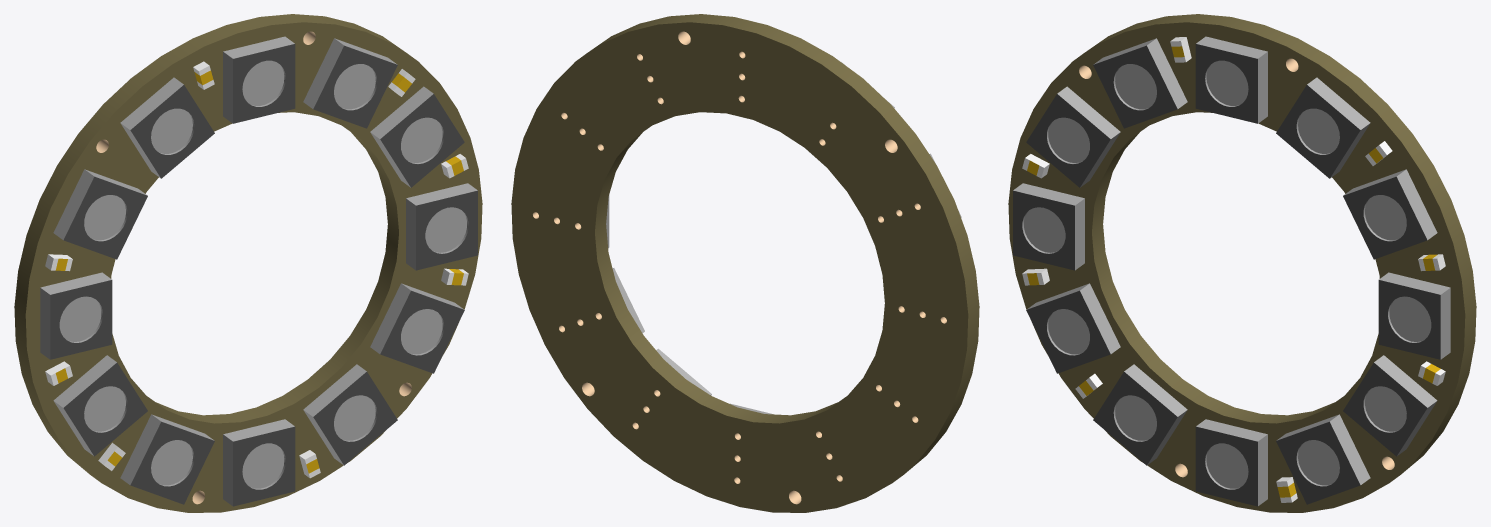
The model's file is 2643_NeoPixel_Ring_12.glb.
3 views of the same model, side by side, from view 1: azimuth 30°, elevation 25°; view 2: azimuth 150°, elevation 25°; view 3: azimuth 330°, elevation 25° (orthographic).
Visible parts, largest first — view 1: Board:1, WS28115050:LED1, WS28115050:LED10, WS28115050:LED7, WS28115050:LED4, WS28115050:LED12, WS28115050:LED6, WS28115050:LED3, WS28115050:LED9, WS28115050:LED5, WS28115050:LED2, WS28115050:LED8 (+1 smaller); view 2: Board:1; view 3: Board:1, WS28115050:LED1, WS28115050:LED4, WS28115050:LED7, WS28115050:LED10, WS28115050:LED2, WS28115050:LED8, WS28115050:LED11, WS28115050:LED5, WS28115050:LED9, WS28115050:LED12, WS28115050:LED6 (+1 smaller).
Boxes of the visible parts, x1,y1,x2,y2 form: Board:1: [14, 14, 482, 512]; WS28115050:LED1: [223, 36, 295, 123]; WS28115050:LED10: [40, 272, 112, 359]; WS28115050:LED7: [223, 419, 295, 506]; WS28115050:LED4: [406, 183, 477, 270]; WS28115050:LED12: [120, 77, 214, 178]; WS28115050:LED6: [303, 364, 397, 465]; WS28115050:LED3: [370, 86, 464, 187]; WS28115050:LED9: [53, 355, 147, 456]; WS28115050:LED5: [370, 283, 464, 373]; WS28115050:LED2: [303, 38, 397, 128]; WS28115050:LED8: [120, 414, 214, 504]; Board:1: [511, 14, 979, 512]; Board:1: [1008, 14, 1476, 512]; WS28115050:LED1: [1195, 36, 1267, 123]; WS28115050:LED4: [1378, 272, 1450, 359]; WS28115050:LED7: [1195, 419, 1267, 506]; WS28115050:LED10: [1013, 183, 1084, 270]; WS28115050:LED2: [1276, 77, 1370, 178]; WS28115050:LED8: [1093, 364, 1187, 465]; WS28115050:LED11: [1026, 86, 1120, 187]; WS28115050:LED5: [1343, 355, 1437, 456]; WS28115050:LED9: [1026, 283, 1120, 373]; WS28115050:LED12: [1093, 38, 1187, 128]; WS28115050:LED6: [1276, 414, 1370, 504].
Bounding box in the file's own units: 0.0368 × 0.0368 × 0.00297.
